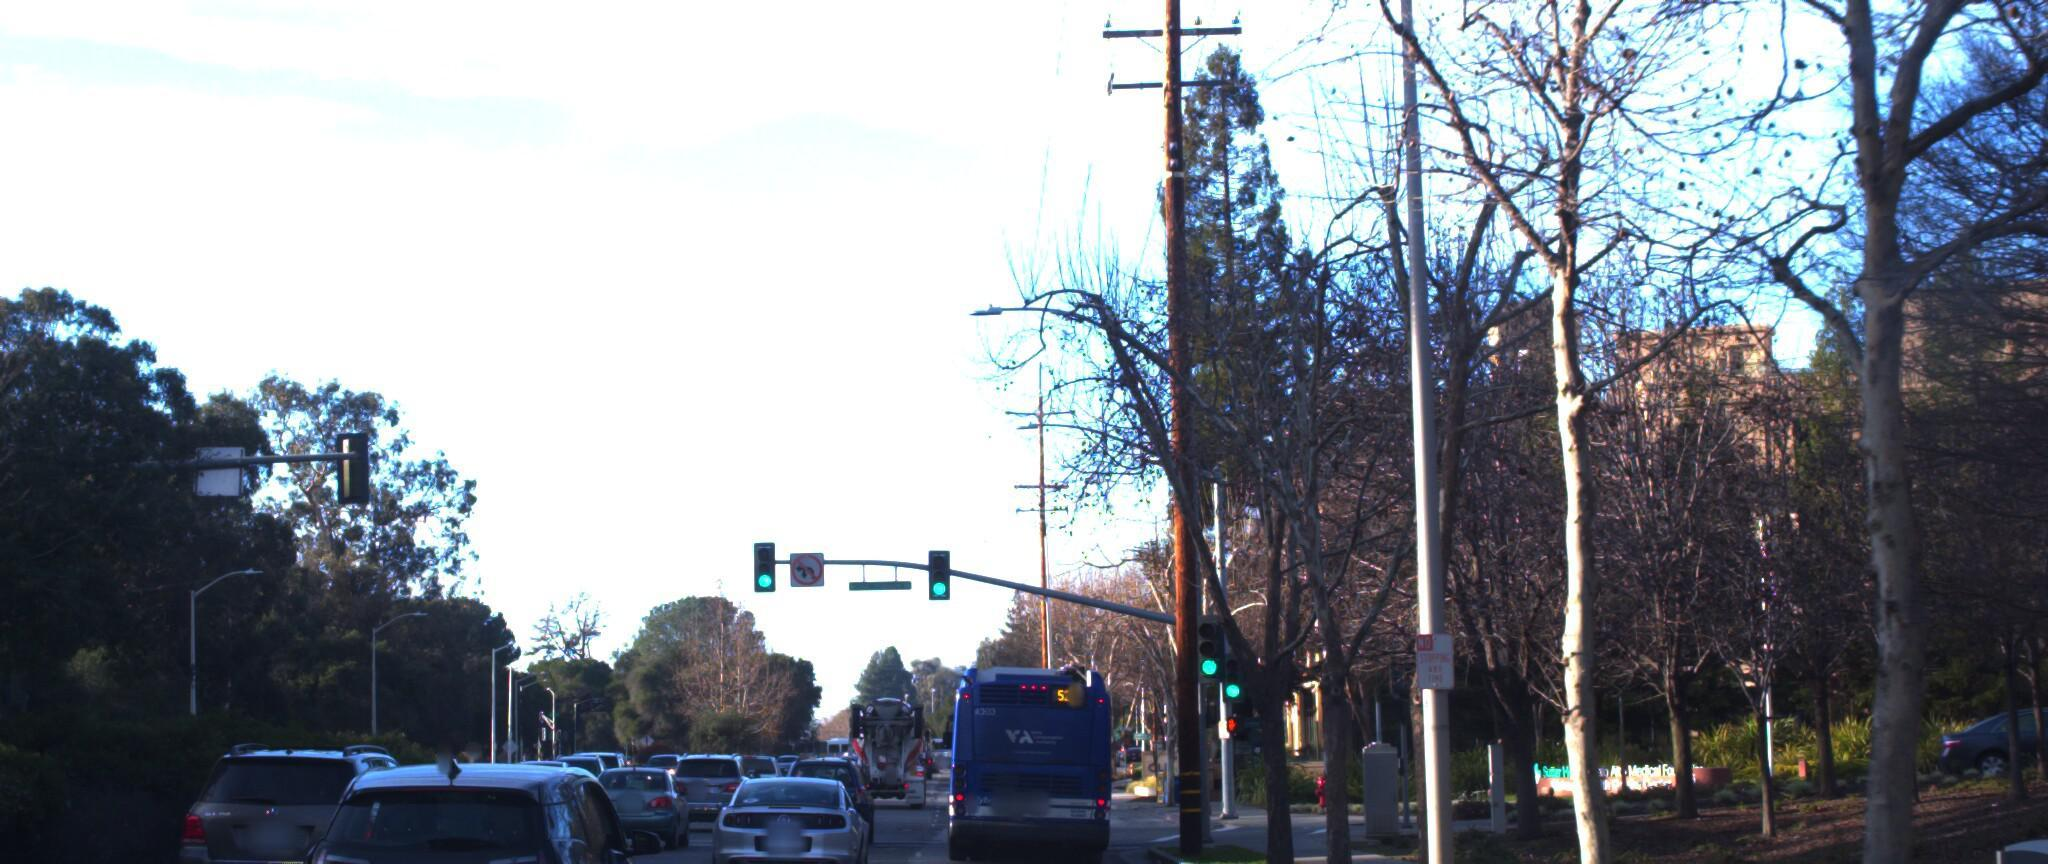bus: (943, 629, 1121, 864)
car: (263, 730, 675, 864), (165, 737, 452, 864), (697, 745, 862, 864), (592, 756, 707, 850), (782, 739, 886, 827), (671, 744, 772, 834)
